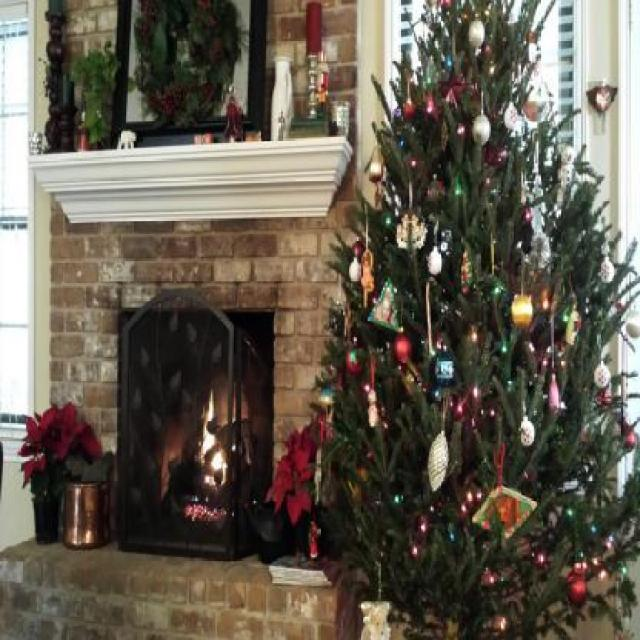Fire: (196, 396, 233, 496)
